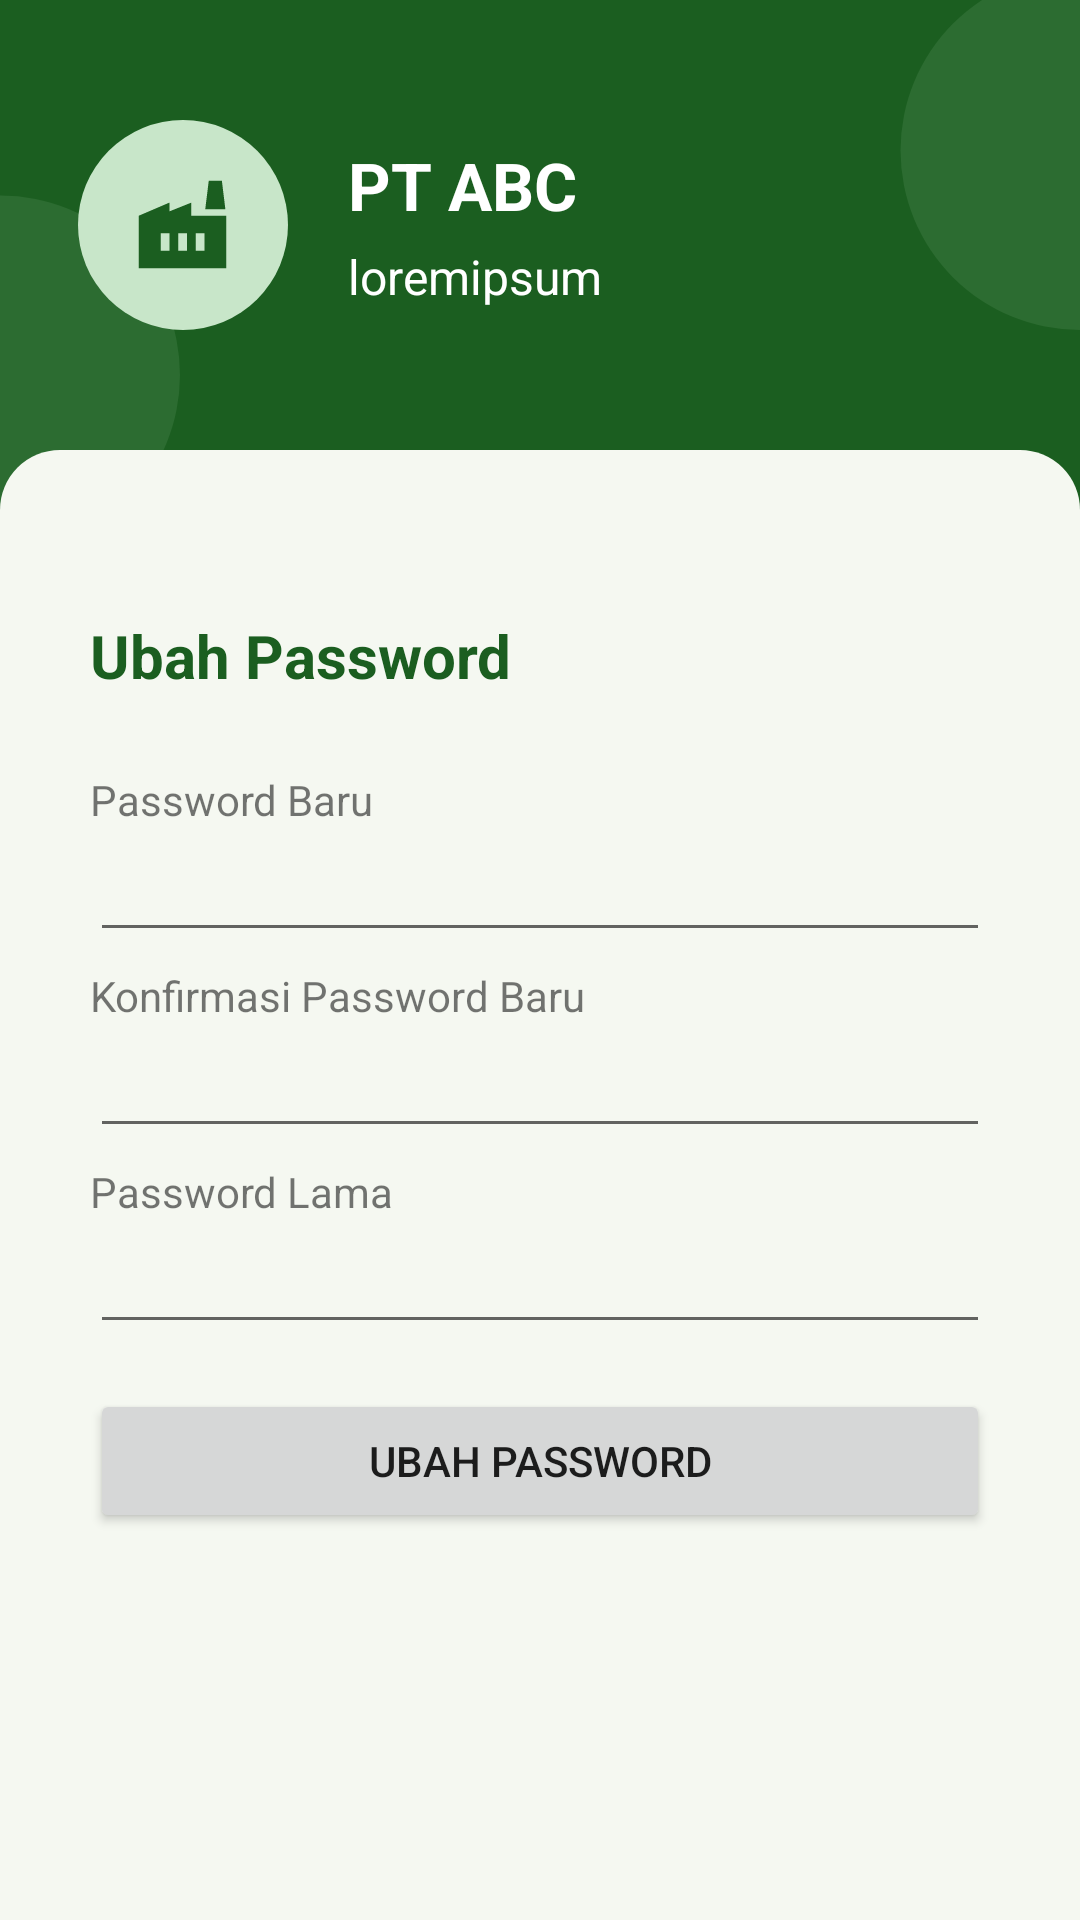

Point at icon controls on the screen. Image size 1080px×1920px, points as (x=x, y=y).
factory: (x=182, y=224)
